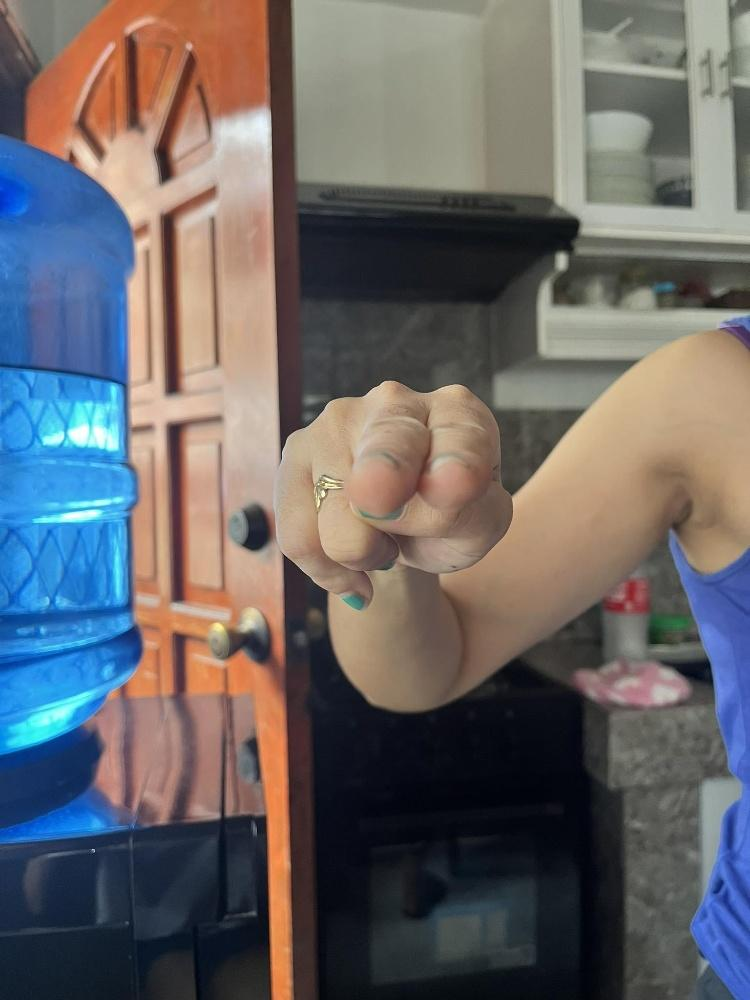n: (275, 375, 515, 606)
